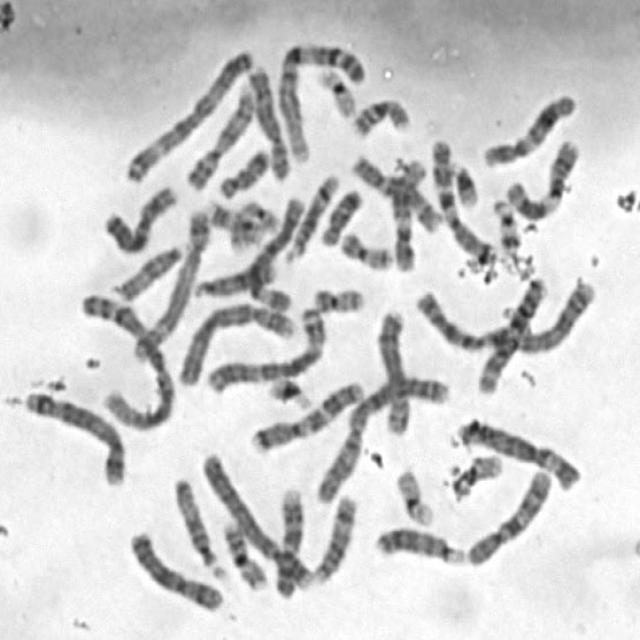A1: (76, 286, 179, 432), (272, 35, 366, 166)
A2: (310, 368, 450, 507), (411, 270, 601, 356)
A3: (120, 41, 258, 185), (200, 300, 330, 394)
B4: (195, 446, 316, 595), (172, 295, 299, 389)
B5: (126, 202, 212, 366), (18, 382, 130, 488)
C10: (461, 462, 555, 568), (346, 148, 445, 234)
C11: (472, 271, 550, 396), (501, 134, 583, 220)
C12: (477, 86, 579, 169), (386, 154, 429, 274)
C6: (454, 412, 584, 492), (241, 190, 306, 314)
C7: (245, 374, 366, 456), (426, 132, 499, 266)
C8: (244, 58, 293, 182), (370, 302, 411, 438)
C9: (180, 80, 258, 191), (269, 481, 307, 599)
D13: (370, 519, 468, 567), (190, 257, 282, 300)
D14: (280, 166, 344, 264), (308, 487, 360, 585)
D15: (168, 471, 223, 577), (113, 236, 193, 303)
E16: (216, 513, 270, 591), (346, 90, 412, 140)
E17: (199, 194, 265, 245), (224, 194, 268, 252)
E18: (214, 141, 273, 200), (315, 182, 365, 248)
F19: (391, 463, 436, 527), (312, 60, 360, 120)
F20: (334, 224, 396, 272), (306, 280, 368, 314)
G21: (263, 368, 315, 412), (446, 154, 481, 209)
G22: (447, 448, 504, 500), (487, 192, 523, 254)
X: (123, 524, 226, 614), (97, 177, 179, 257)
